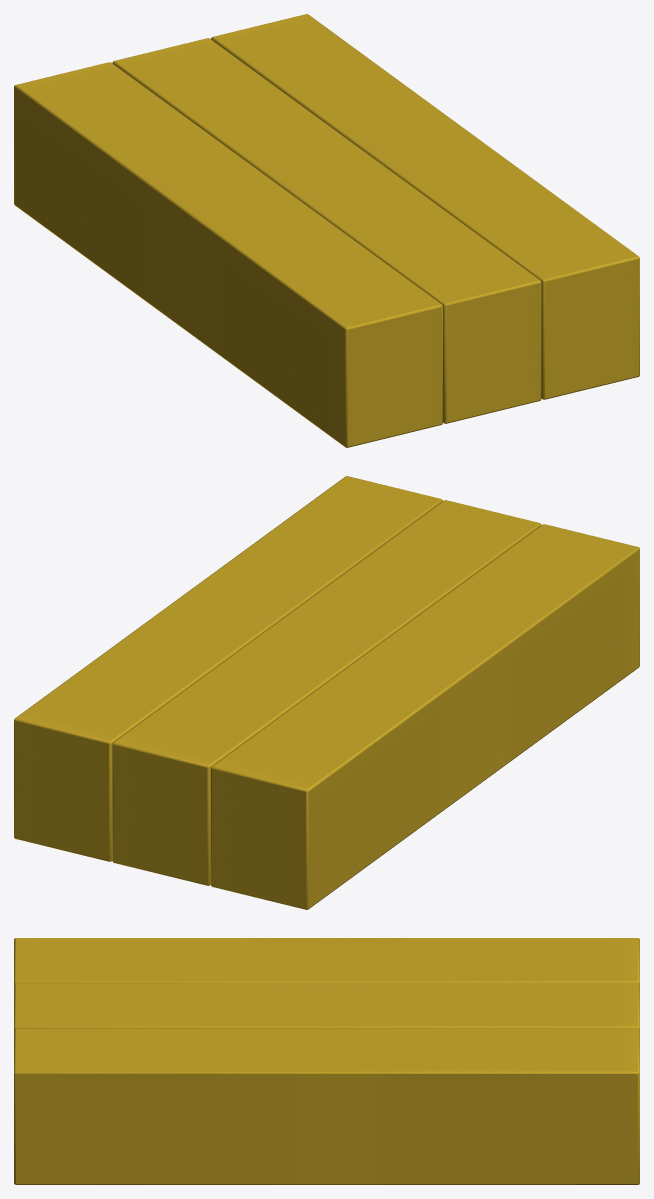
Rendered from 6-left-toy-leg-course-4.fbx.
3 renders of one model, top to bottom at view 1: azimuth 30°, elevation 25°; view 2: azimuth 150°, elevation 25°; view 3: azimuth 270°, elevation 25°, orthographic. The views are drawn at different scales.
Parts seen in each view (by area): view 1: left-toy-leg-course-4; view 2: left-toy-leg-course-4; view 3: left-toy-leg-course-4.
Boxes of the visible parts, x1=… form: left-toy-leg-course-4: x1=14, y1=14, x2=639, y2=447; left-toy-leg-course-4: x1=14, y1=476, x2=639, y2=909; left-toy-leg-course-4: x1=14, y1=938, x2=639, y2=1184.
Size of the model in its own units: 4085 by 1597 by 8000.
Materials: 1 (1 with a texture image).
